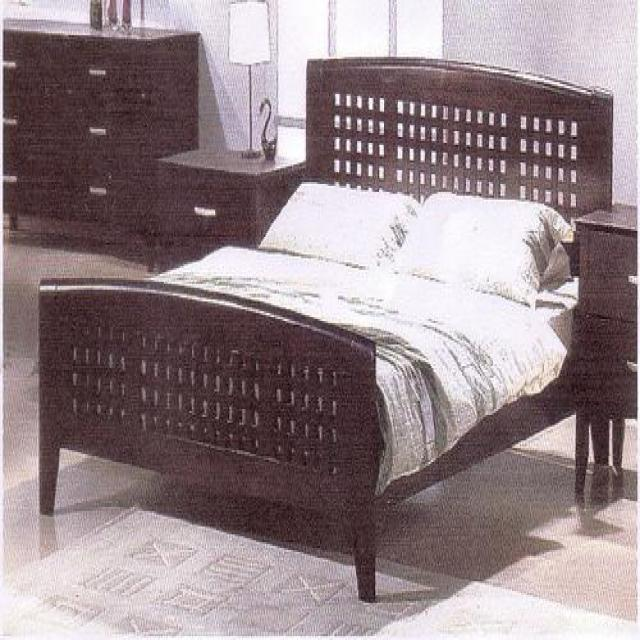bed: (36, 53, 614, 603)
